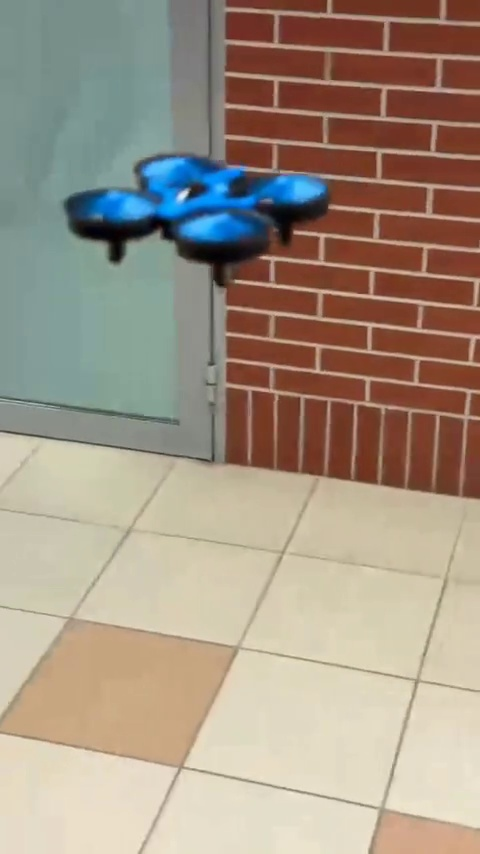drone: (65, 150, 331, 270)
